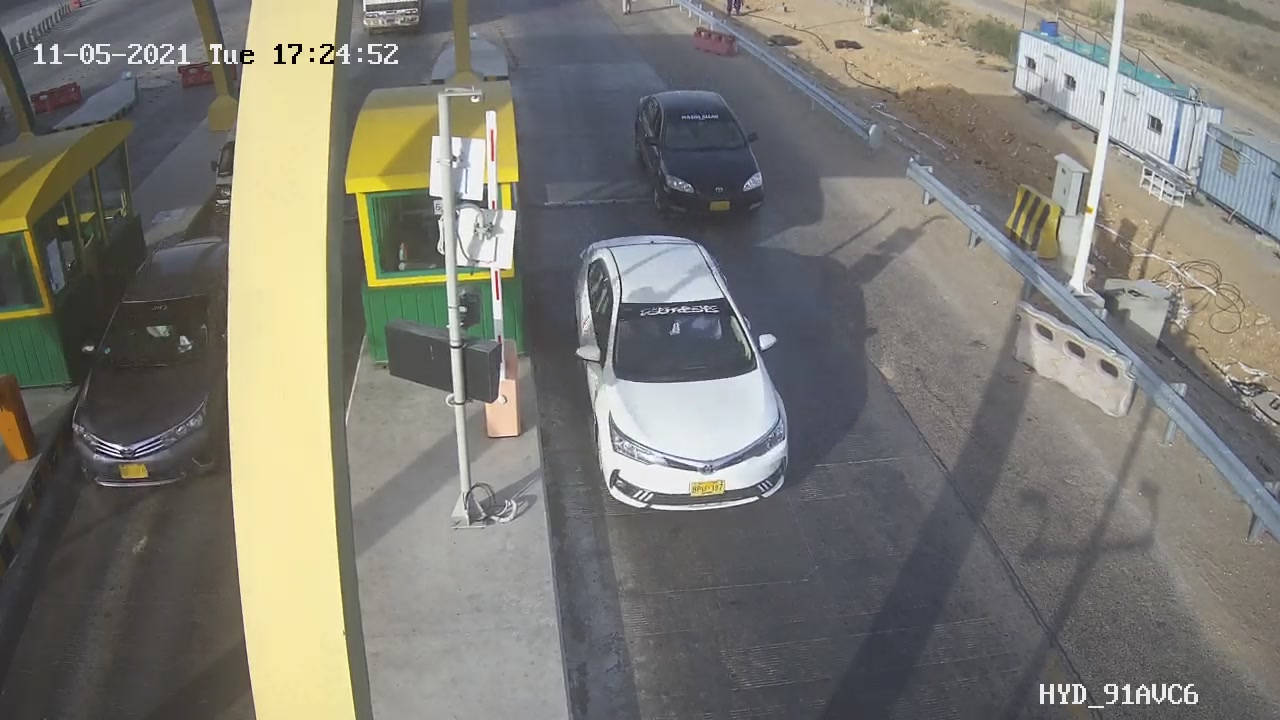F1: (613, 75, 786, 242)
